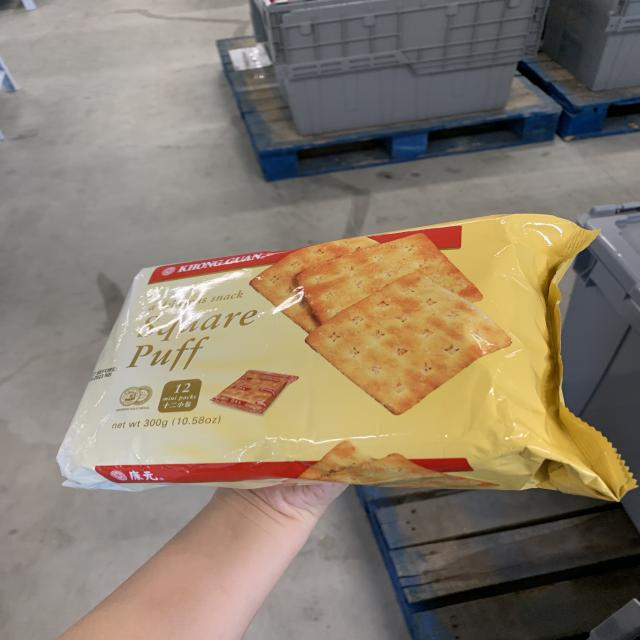object_name: (106, 236, 559, 487)
